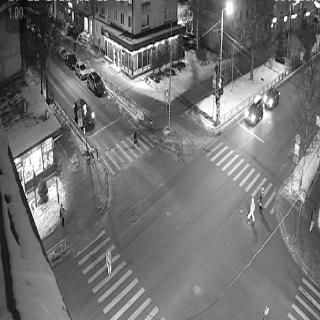small-vehicle: (74, 99, 94, 128), (246, 98, 264, 126), (87, 72, 105, 96), (264, 86, 278, 108), (64, 51, 76, 70), (74, 62, 87, 79), (52, 43, 64, 58)
